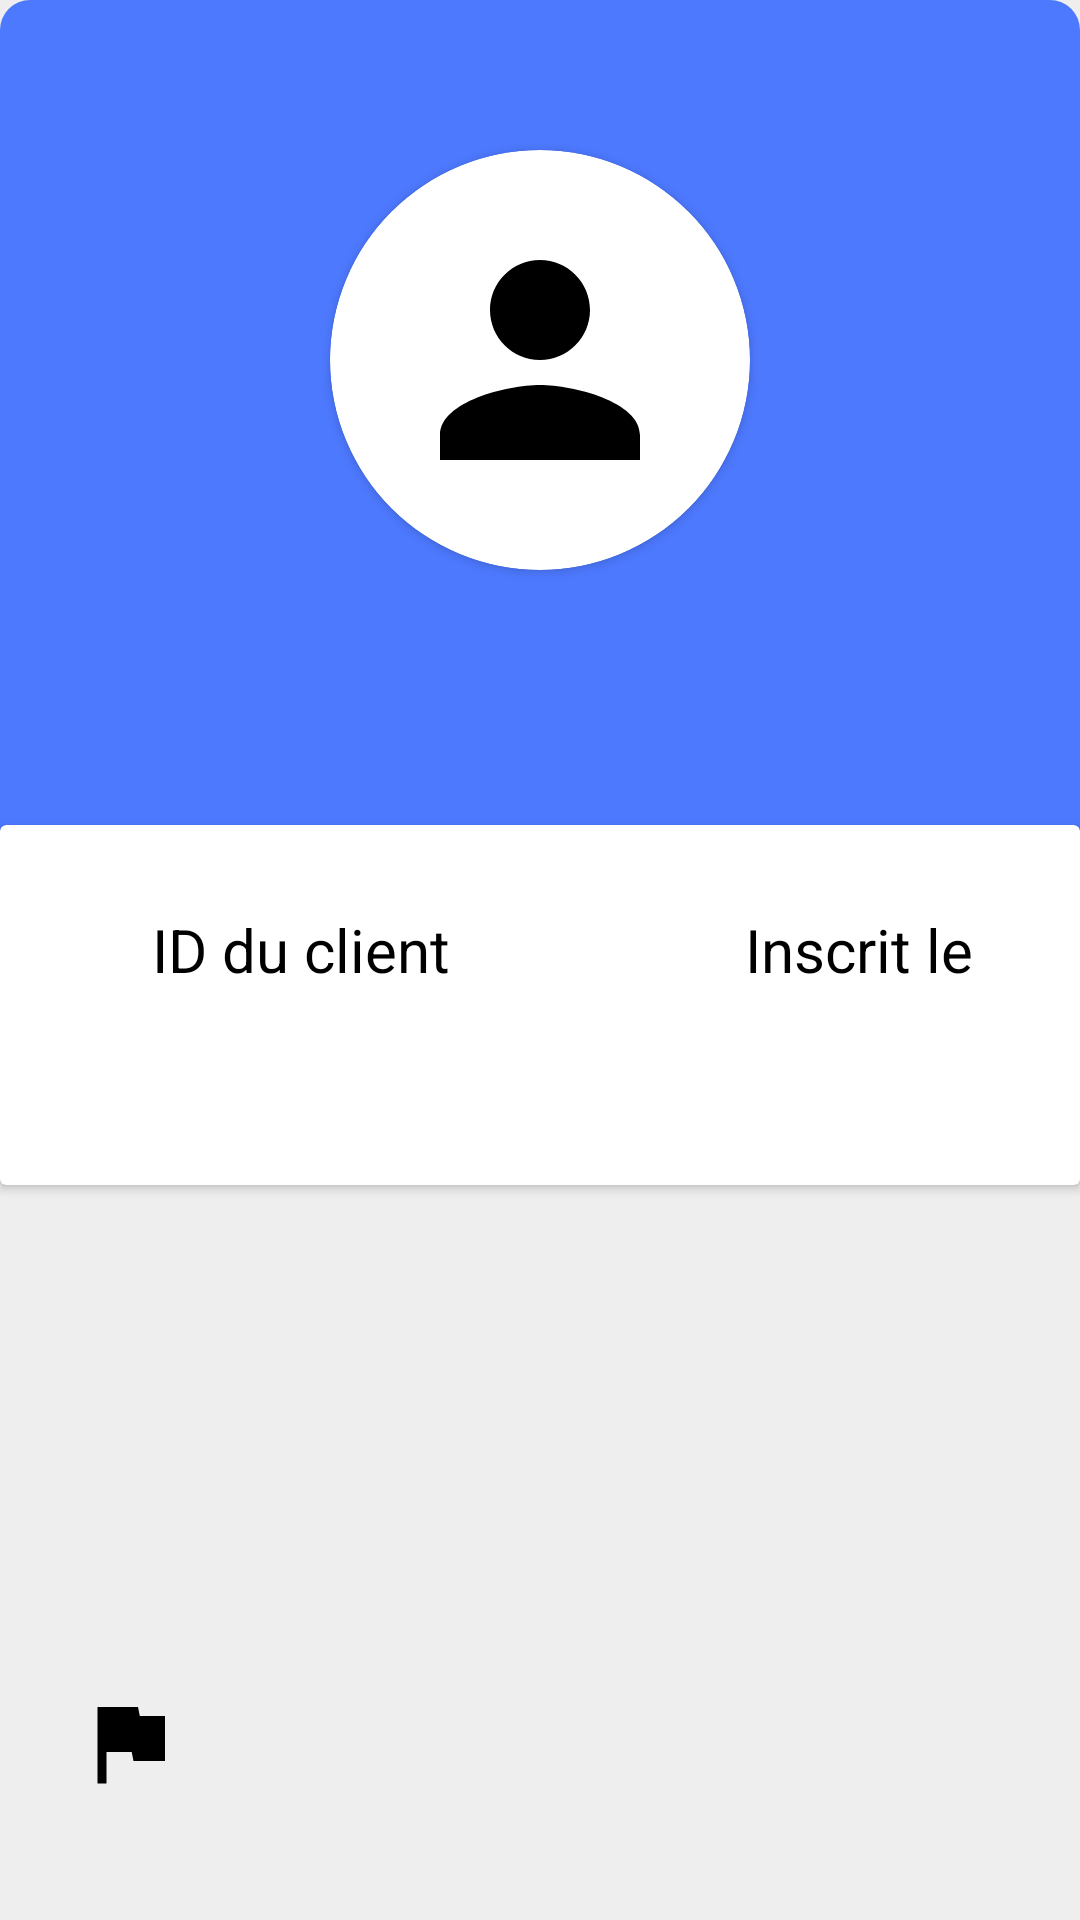

Icon bounding boxes for this 1080x1920 phone screenshot, format (x1, y1, x2, y2):
flag: (97, 1707, 165, 1784)
